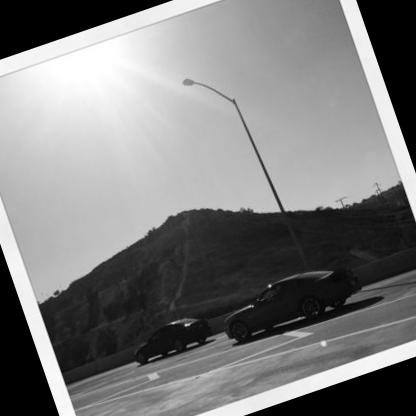car: (206, 246, 368, 359), (117, 311, 215, 377)
